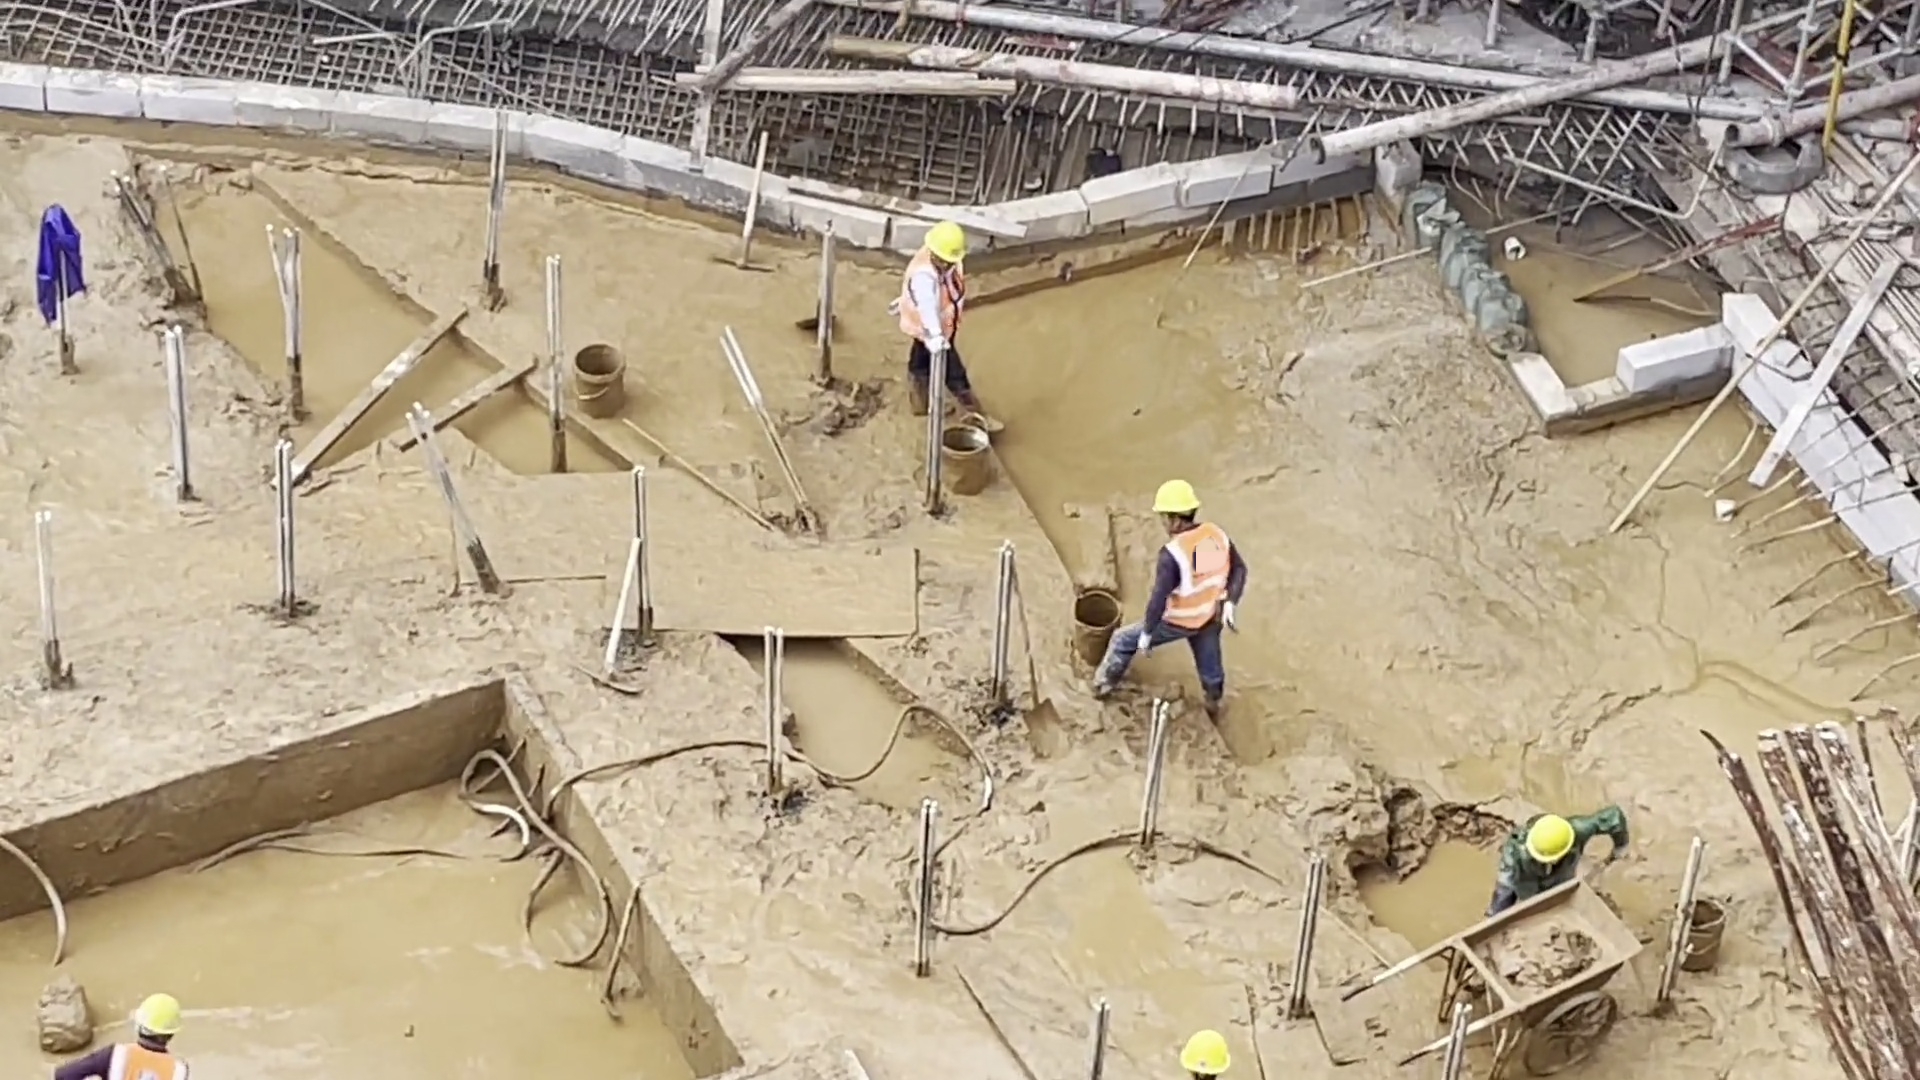helmet: (1176, 1029, 1238, 1079), (1524, 812, 1577, 868), (136, 993, 184, 1038), (925, 221, 969, 266), (1151, 480, 1202, 515)
person: (1102, 476, 1242, 721), (897, 216, 1011, 439), (1489, 801, 1628, 906), (58, 990, 191, 1080)
vest: (1160, 514, 1233, 632), (899, 247, 967, 344), (101, 1039, 191, 1080)
